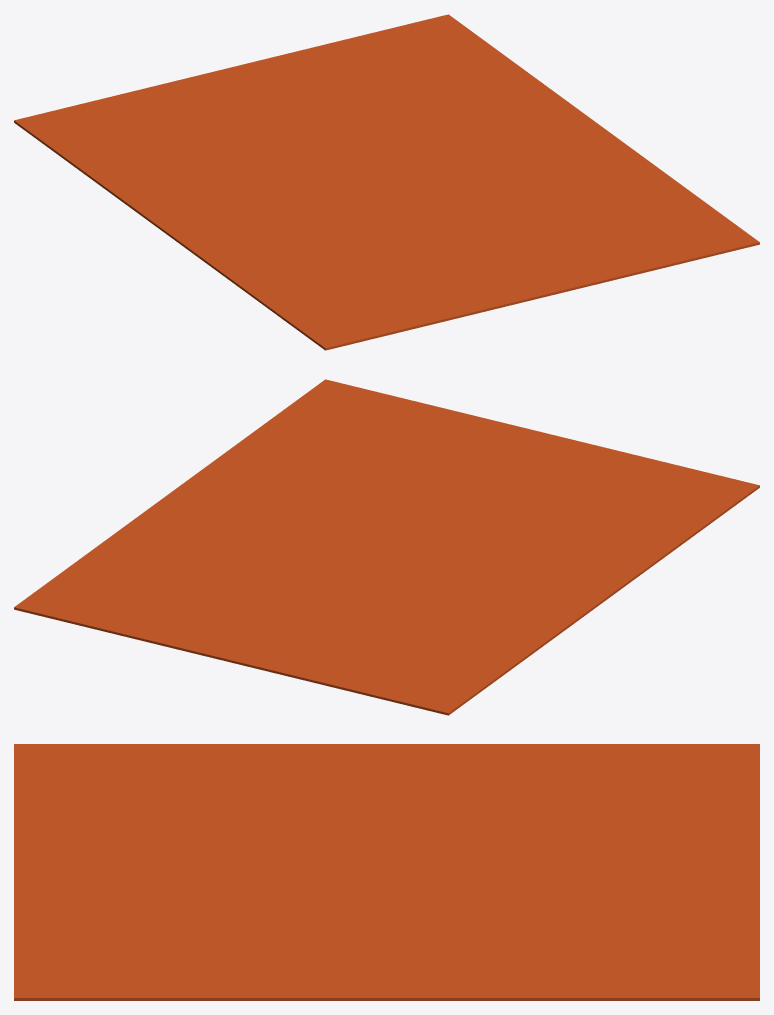
File: blanket-flat.fbx
3 renders of one model, top to bottom at view 1: azimuth 30°, elevation 25°; view 2: azimuth 150°, elevation 25°; view 3: azimuth 270°, elevation 25°, orthographic. The views are drawn at different scales.
Visible parts, largest first — view 1: Plane; view 2: Plane; view 3: Plane.
Part boxes in pixels (x1=…): Plane: x1=14, y1=14, x2=759, y2=350; Plane: x1=14, y1=379, x2=759, y2=715; Plane: x1=14, y1=744, x2=759, y2=1000.
Size of the model in its own units: 752 by 3.76 by 933.
